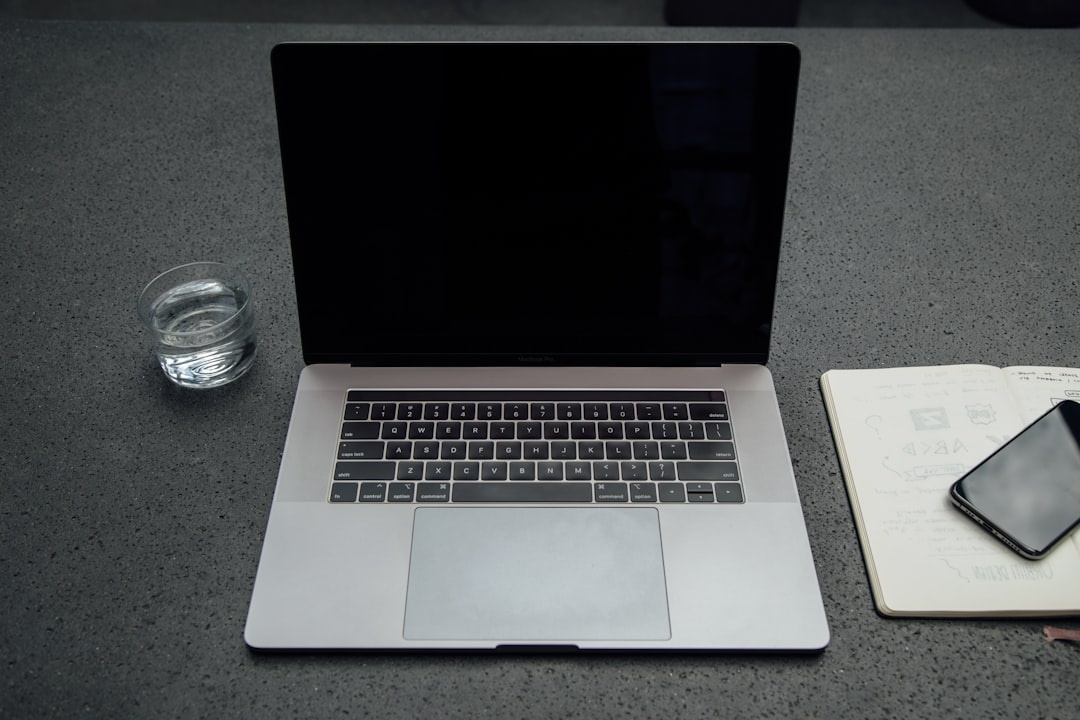laptop: (242, 27, 846, 680)
